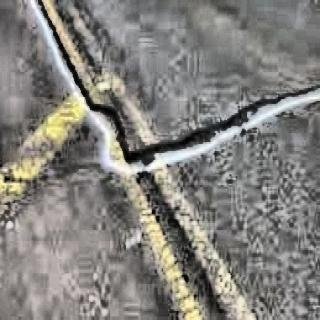crack: (129, 77, 320, 166), (36, 2, 128, 161)
